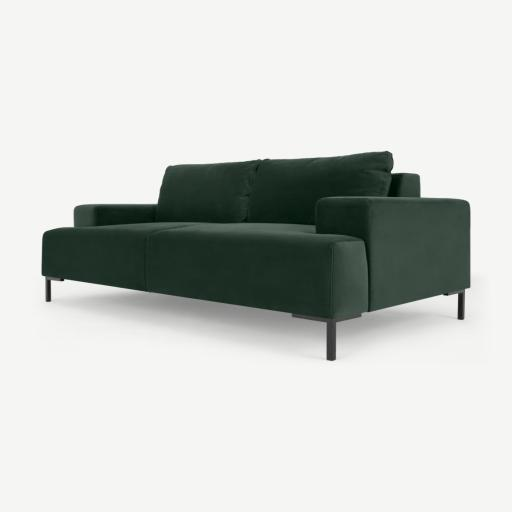back_cushion: (155, 152, 393, 224)
left_arm: (317, 197, 470, 311)
legs: (292, 314, 361, 360), (444, 290, 464, 319), (45, 277, 64, 302)
one-seater: (0, 0, 511, 512)
right_arm: (74, 204, 155, 226)
seat_cushion: (42, 222, 368, 318)
